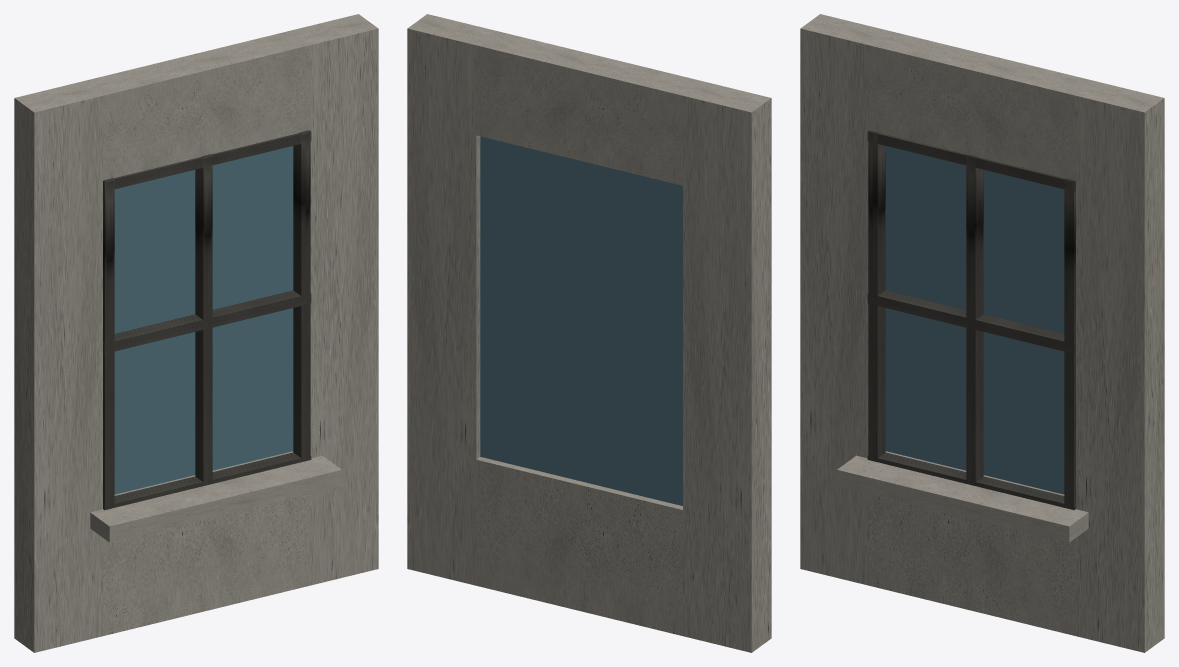
Rendered from env_modern_facade_a_v001.glb.
3 views of the same model, side by side, from view 1: azimuth 30°, elevation 25°; view 2: azimuth 150°, elevation 25°; view 3: azimuth 330°, elevation 25° (orthographic).
Visible parts, largest first — view 1: env_modern_facade_a_LOD0_mesh, env_modern_facade_a_LOD1_mesh; view 2: env_modern_facade_a_LOD0_mesh, env_modern_facade_a_LOD1_mesh; view 3: env_modern_facade_a_LOD0_mesh, env_modern_facade_a_LOD1_mesh.
Boxes of the visible parts, x1,y1,x2,y2 form: env_modern_facade_a_LOD0_mesh: (16, 15, 375, 648); env_modern_facade_a_LOD1_mesh: (14, 14, 378, 652); env_modern_facade_a_LOD0_mesh: (410, 15, 769, 648); env_modern_facade_a_LOD1_mesh: (407, 14, 771, 652); env_modern_facade_a_LOD0_mesh: (803, 17, 1162, 648); env_modern_facade_a_LOD1_mesh: (800, 14, 1164, 652).
Size of the model in its own units: 2 by 3 by 0.395.
3 materials, 2 textured.
